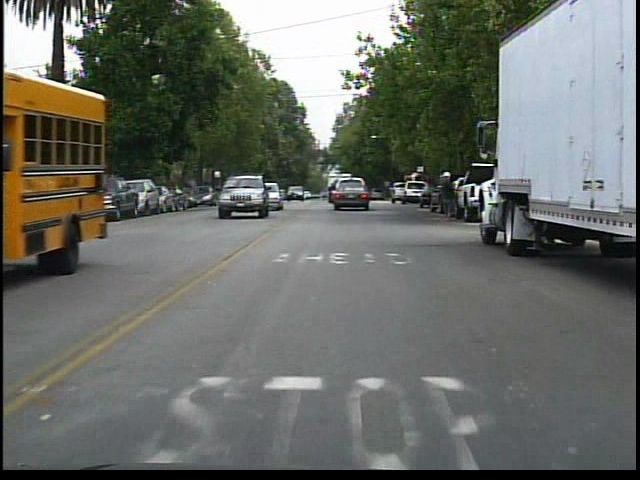person: (437, 169, 463, 223)
